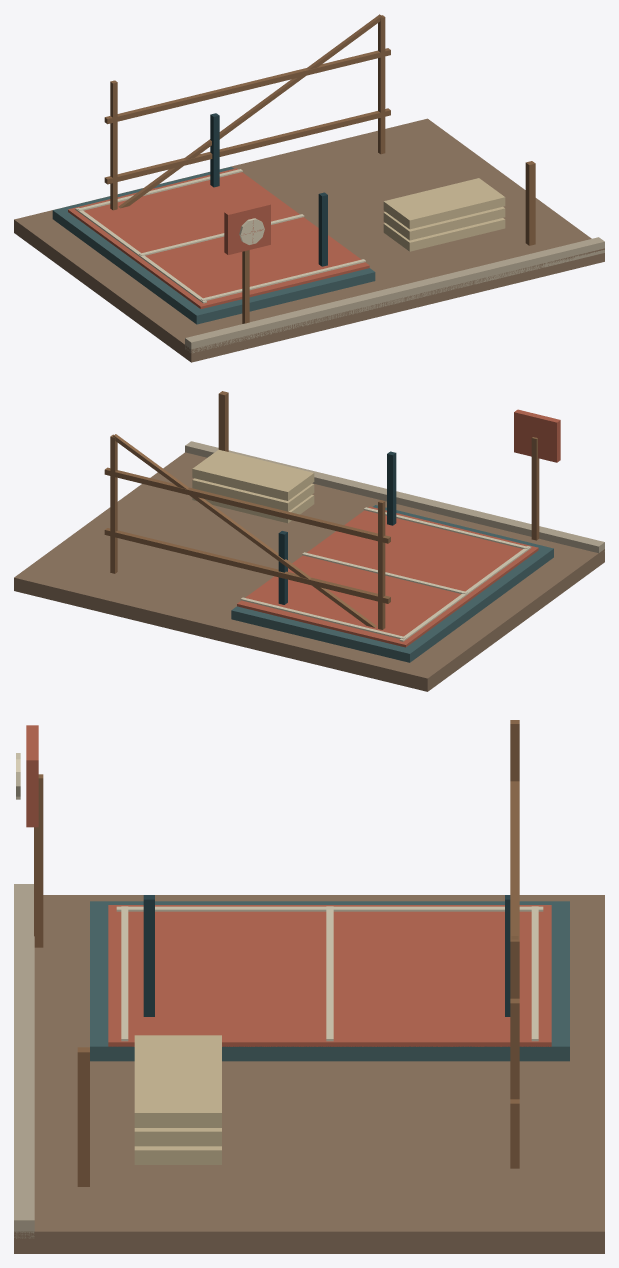
Rendered from sports-park-half-built.glb.
3 views of the same model, one above another, from view 1: azimuth 30°, elevation 25°; view 2: azimuth 150°, elevation 25°; view 3: azimuth 270°, elevation 25° (orthographic). The views are drawn at different scales.
Parts seen in each view (by area): view 1: sports-park; view 2: sports-park; view 3: sports-park.
Boxes of the visible parts, box(x1,y1,x2,y2) form: sports-park: box(14, 14, 604, 362); sports-park: box(14, 391, 604, 691); sports-park: box(14, 720, 604, 1253).
Bounding box in the file's own units: 3.88 × 1.39 × 2.88.
